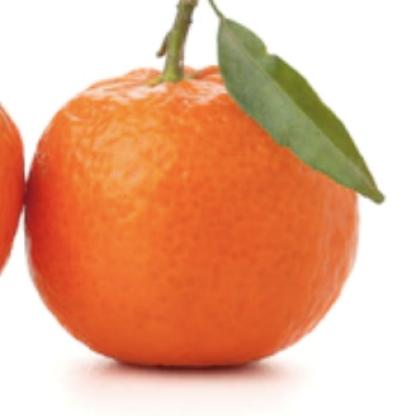fresh: (29, 58, 358, 373)
